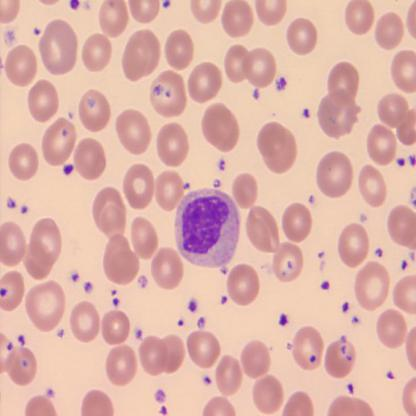Metamyelocyte: (172, 187, 243, 273)
